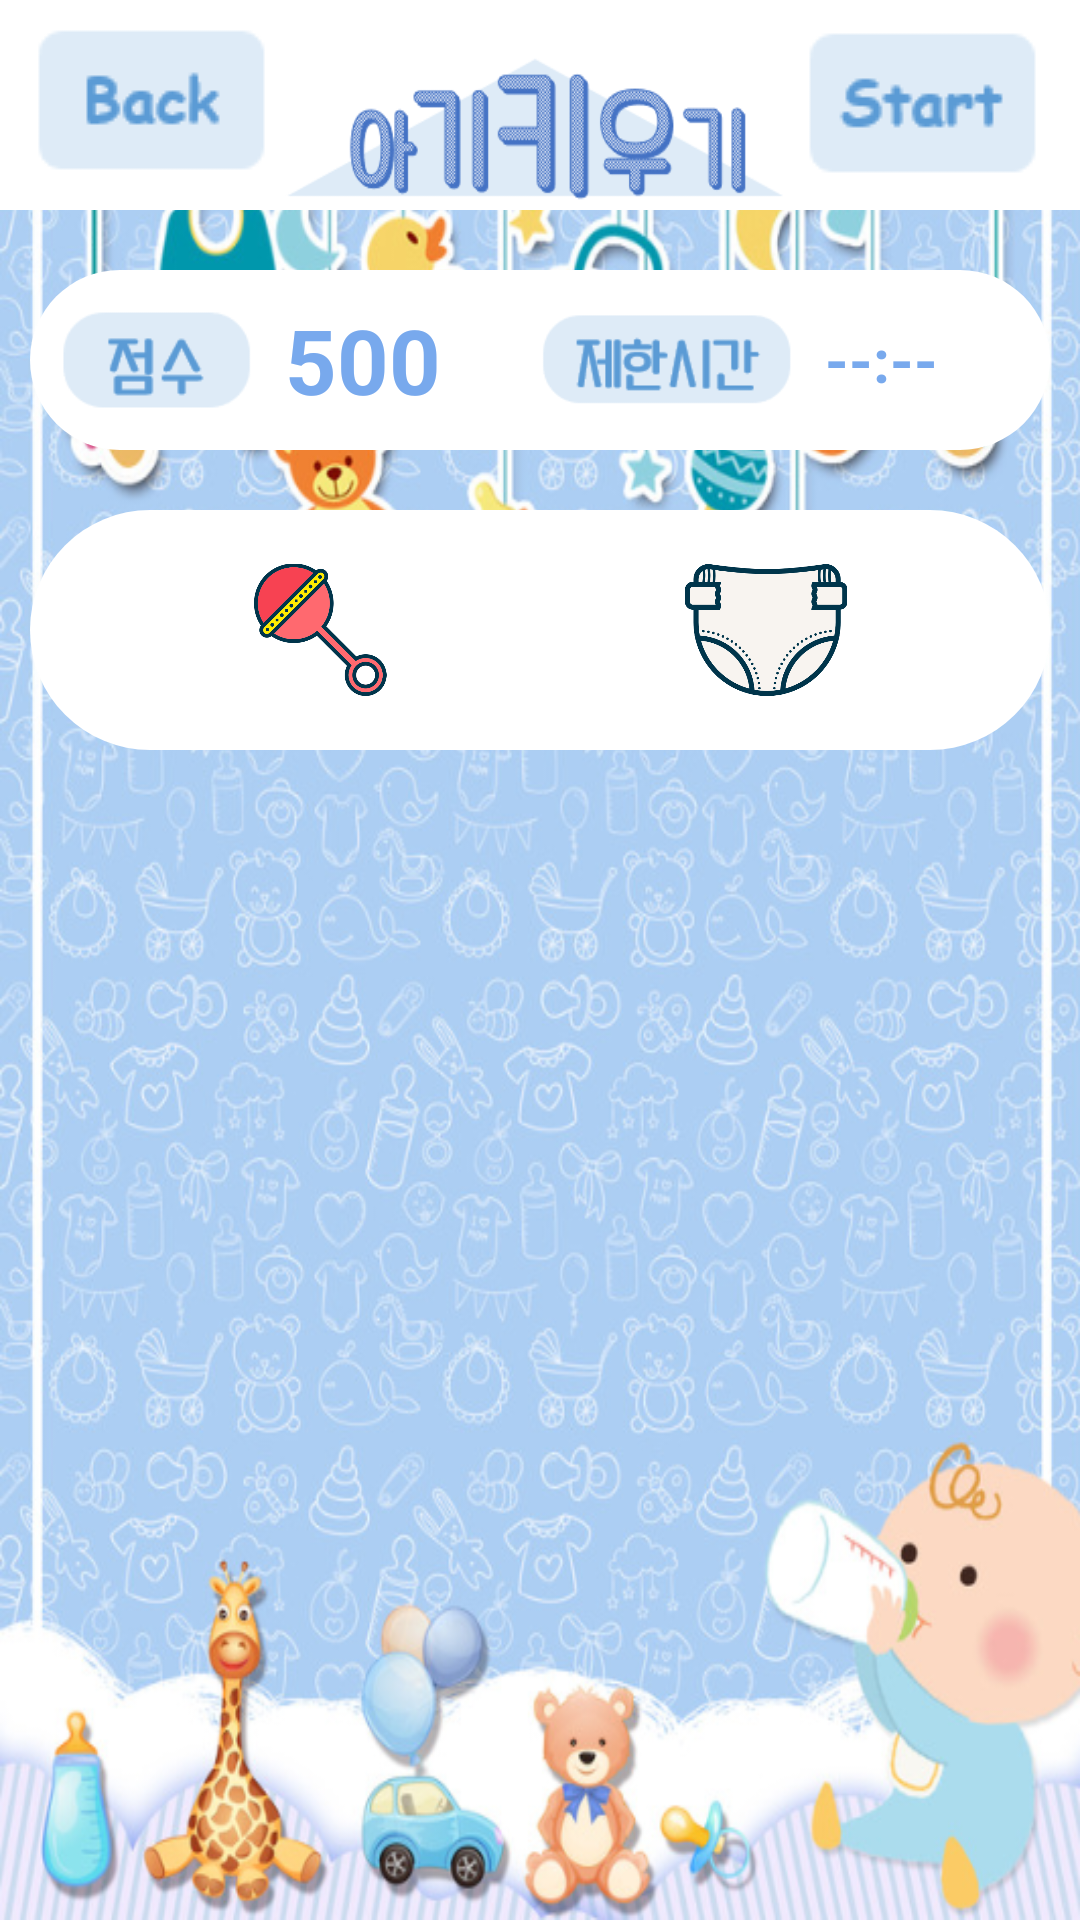

Icons on this 1080px×1920px Android screen, each with its box as rect(x1, y1, x2, y2):
pad: rect(685, 564, 847, 696)
toy: rect(254, 564, 387, 696)
